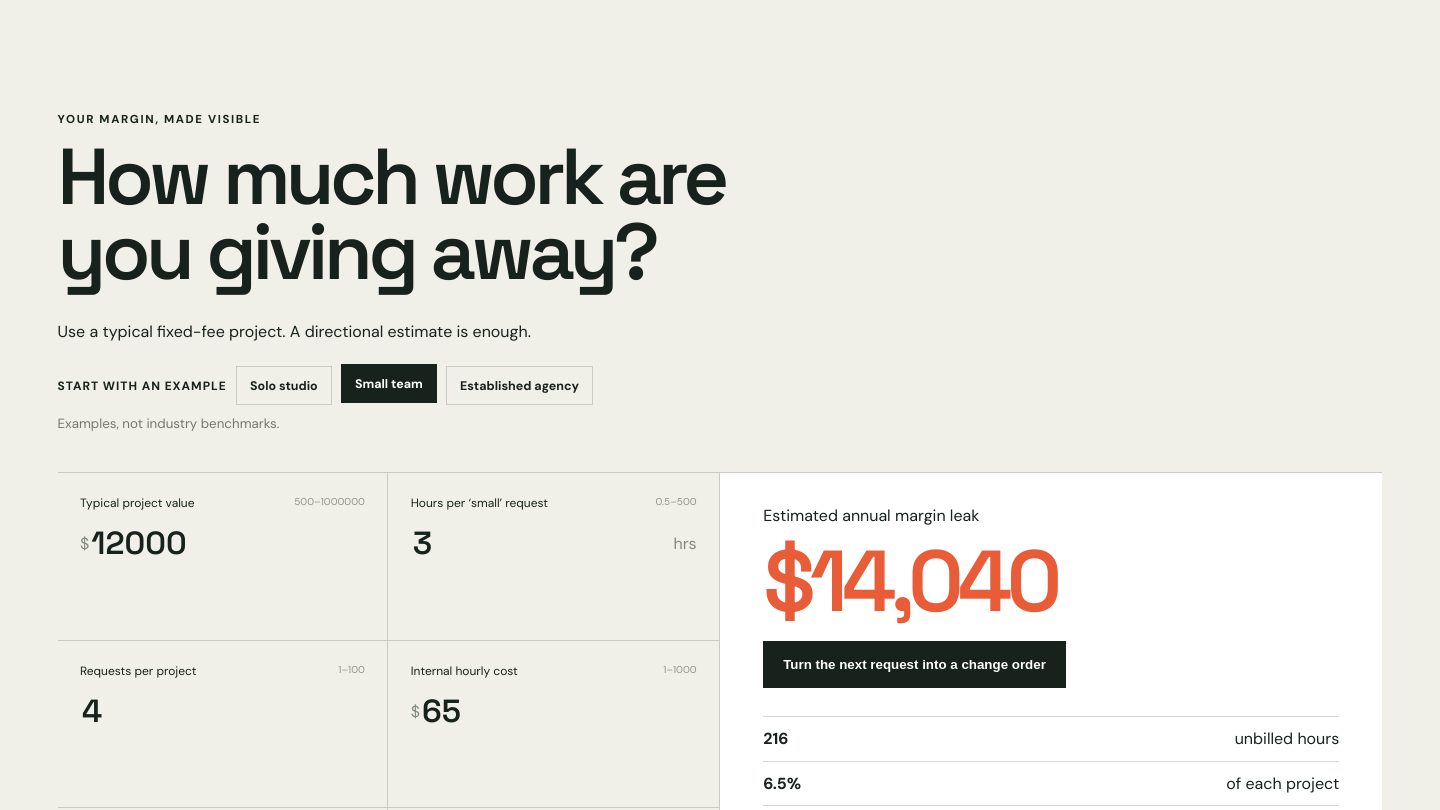
Scenario: calculator journey › keeps partial input stable and disables the result action
The width and height of the screenshot is (1440, 810).
Clear the number field labelled "Typical project value" at x=227, y=543, box [89,522,365,564]
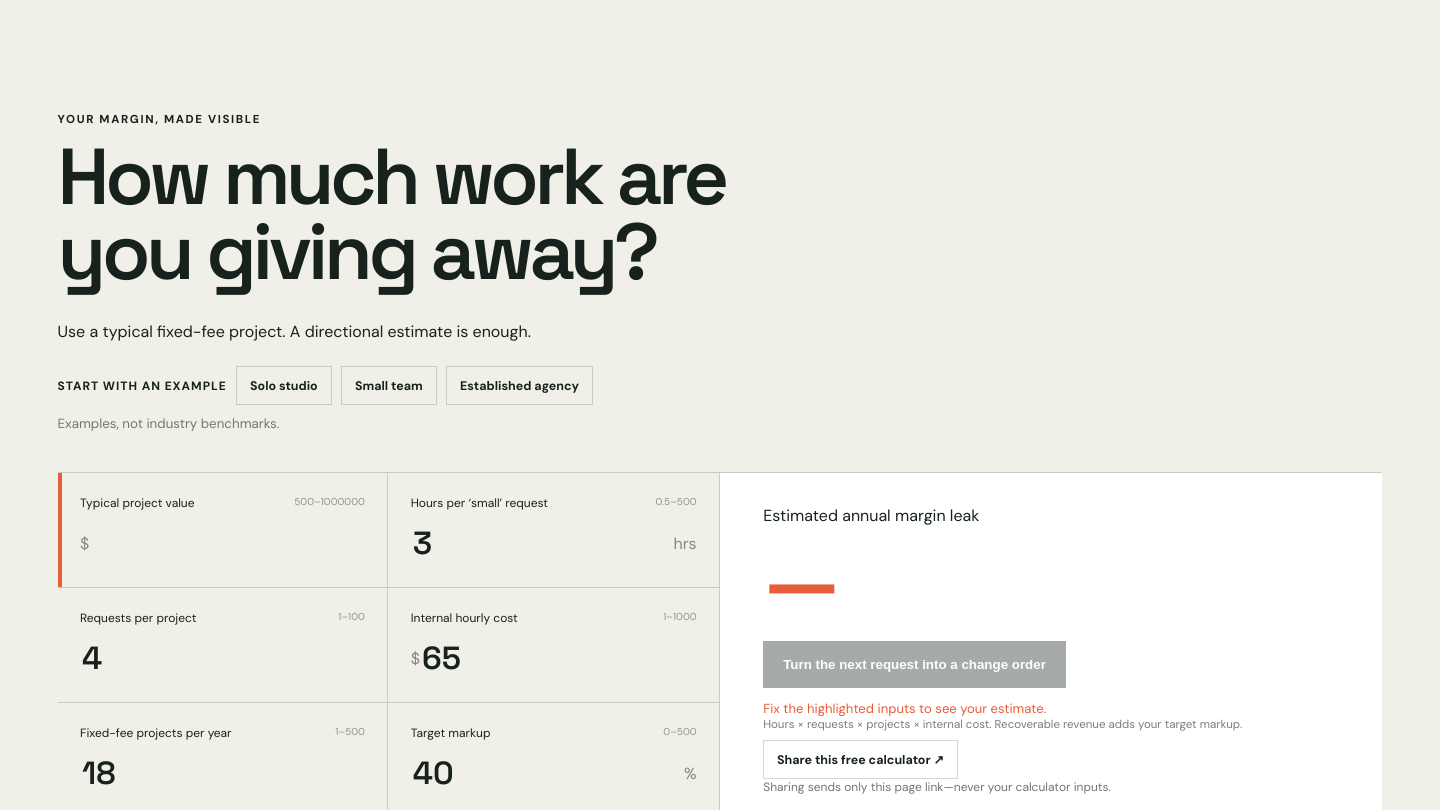
Result: the button "Turn the next request into a change order" is disabled at [763,641,1066,688]
